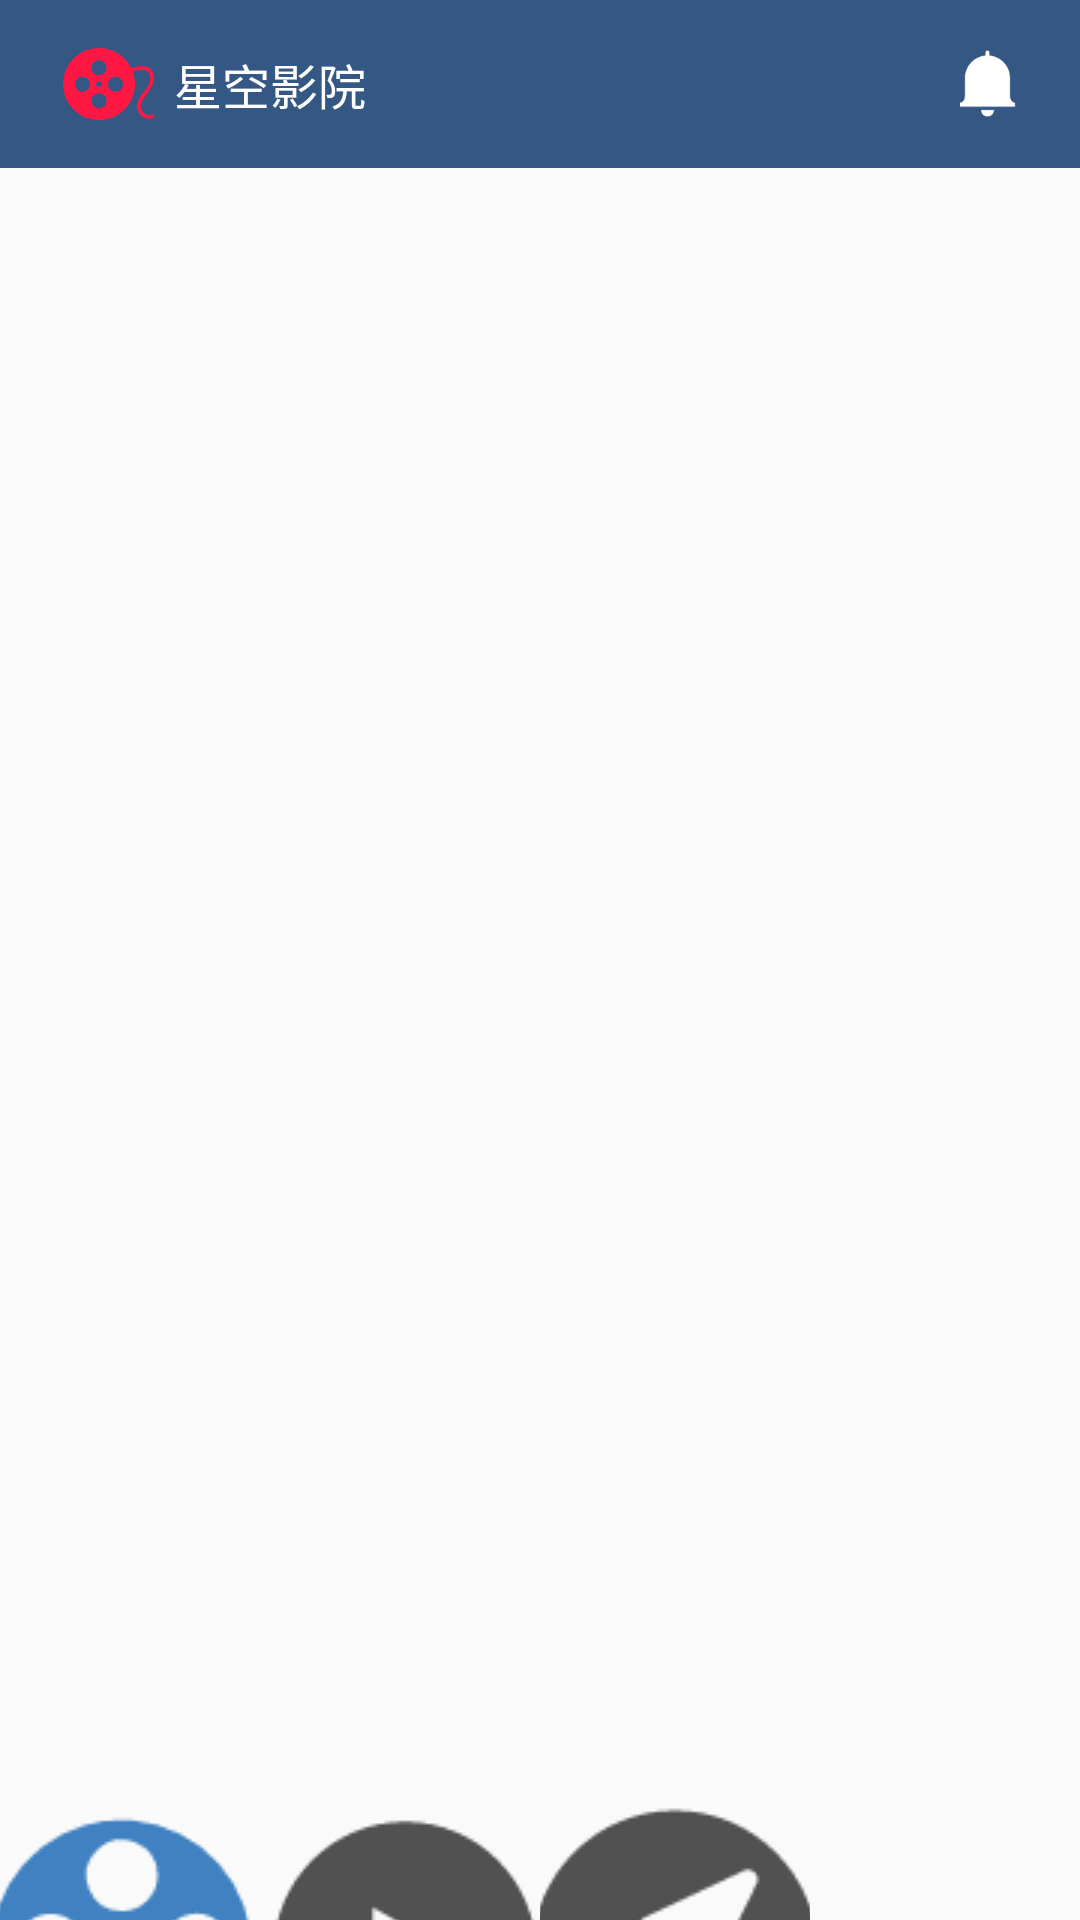

Point at icon controls on the screen. Image size 1080px×1920px, points as point (x, y).
home message: point (988, 83)
